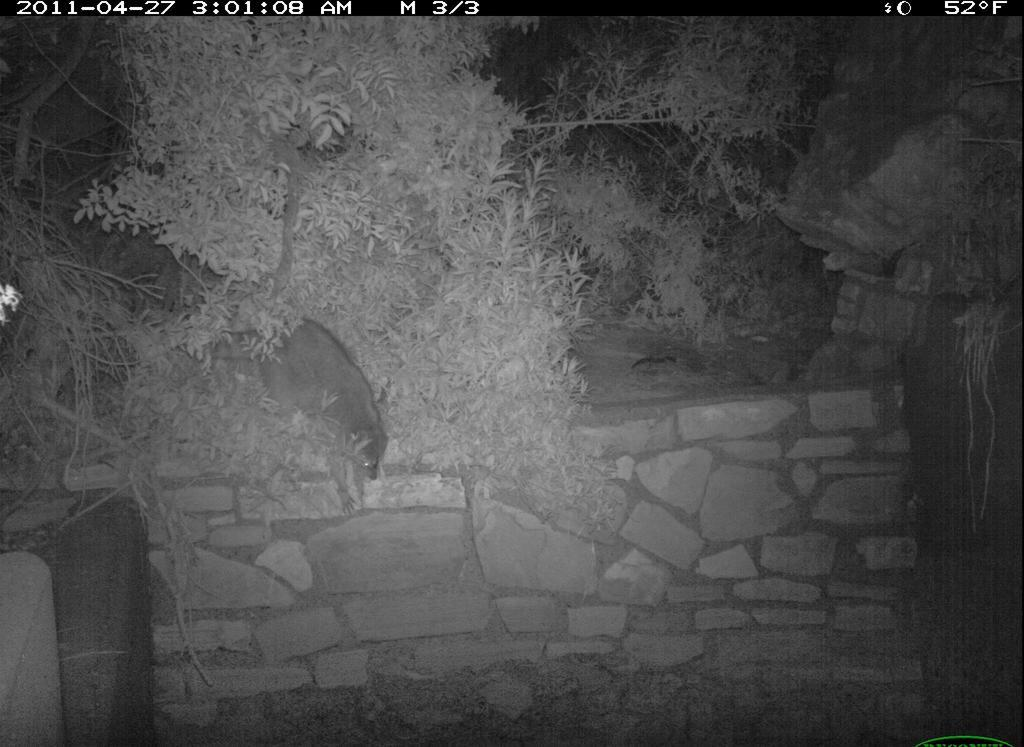raccoon: (207, 299, 401, 518)
